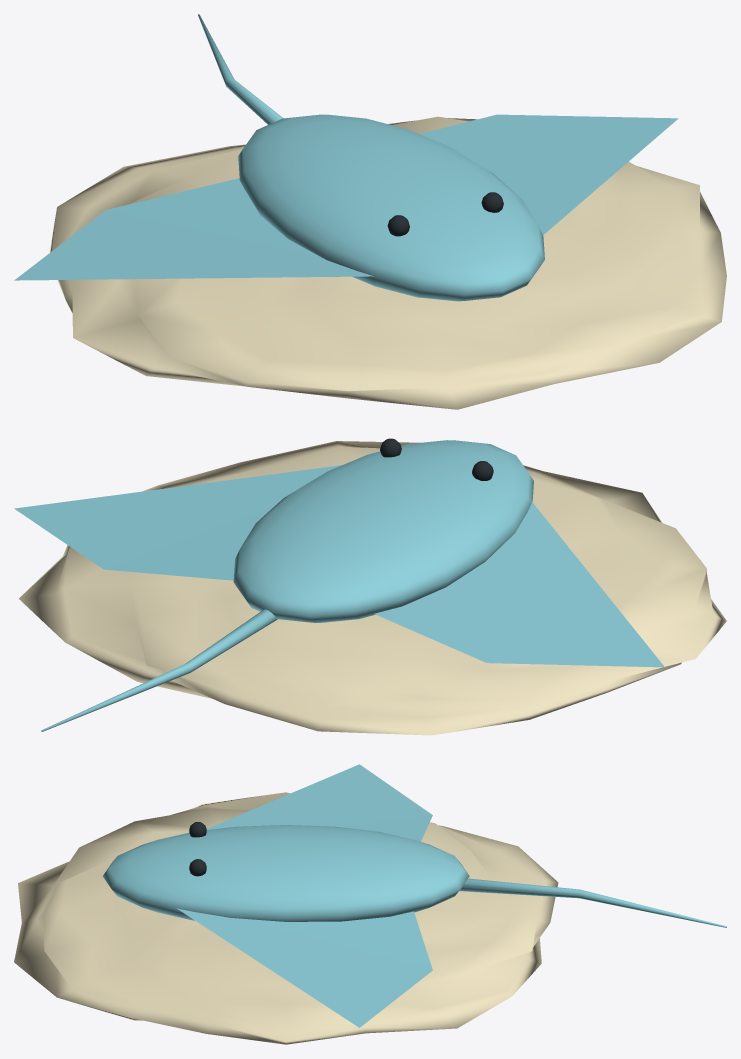
File: underwater-reef-worlds-resting-ray-36c3f695__7070.glb
3 renders of one model, top to bottom at view 1: azimuth 30°, elevation 25°; view 2: azimuth 150°, elevation 25°; view 3: azimuth 270°, elevation 25°, orthographic. The views are drawn at different scales.
Parts seen in each view (by area): view 1: resting-ray; view 2: resting-ray; view 3: resting-ray.
Part boxes in pixels (<box>): resting-ray: <box>14,14,726,409</box>; resting-ray: <box>14,438,726,735</box>; resting-ray: <box>14,764,726,1044</box>.
Bounding box in the file's own units: 1.7 × 0.255 × 1.94.
